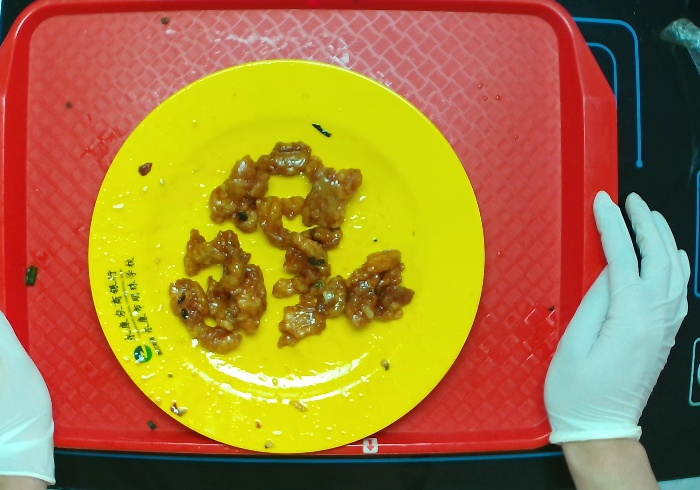YKMZ-Huang_Se_Mian_Pan: (86, 58, 486, 456)
